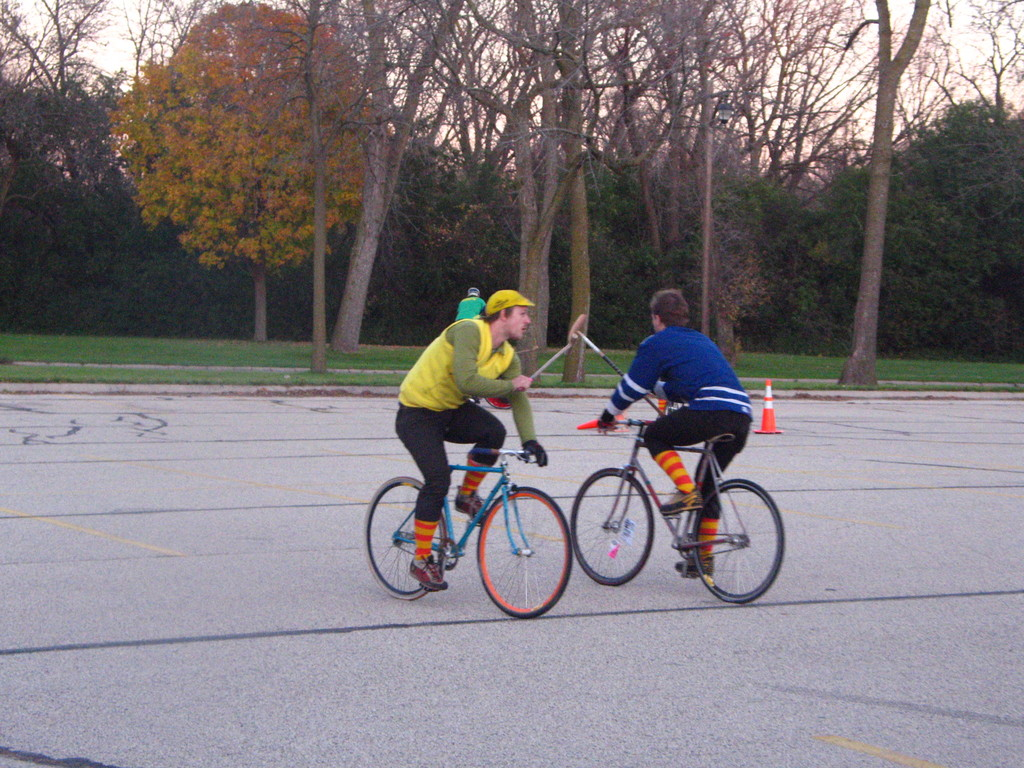Bike_away: (573, 412, 789, 611)
Bike_toward: (363, 440, 575, 621)
